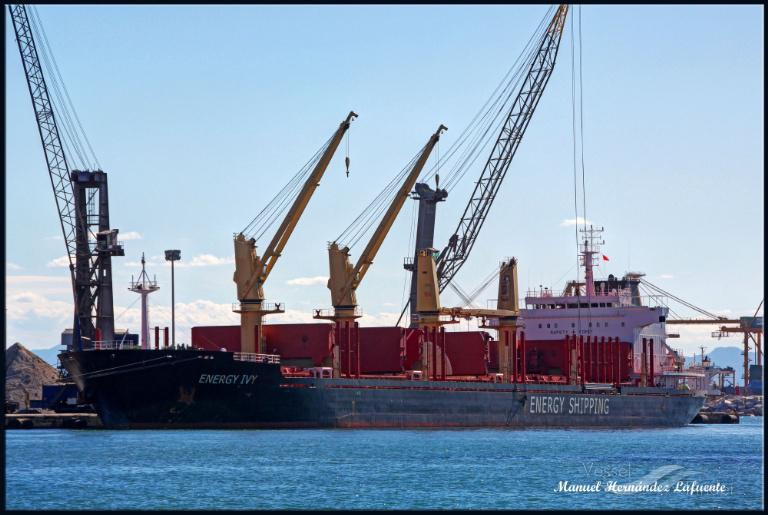OCR: (527, 392, 621, 424), (193, 364, 260, 391)
